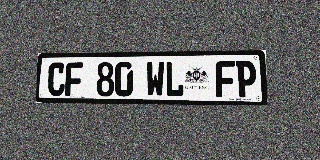0: (115, 62, 133, 97)
8: (96, 62, 114, 96)
C: (47, 62, 65, 96)
F: (215, 61, 236, 97), (65, 62, 83, 96)
L: (165, 61, 184, 97)
P: (236, 61, 257, 97)
W: (146, 61, 165, 97)
